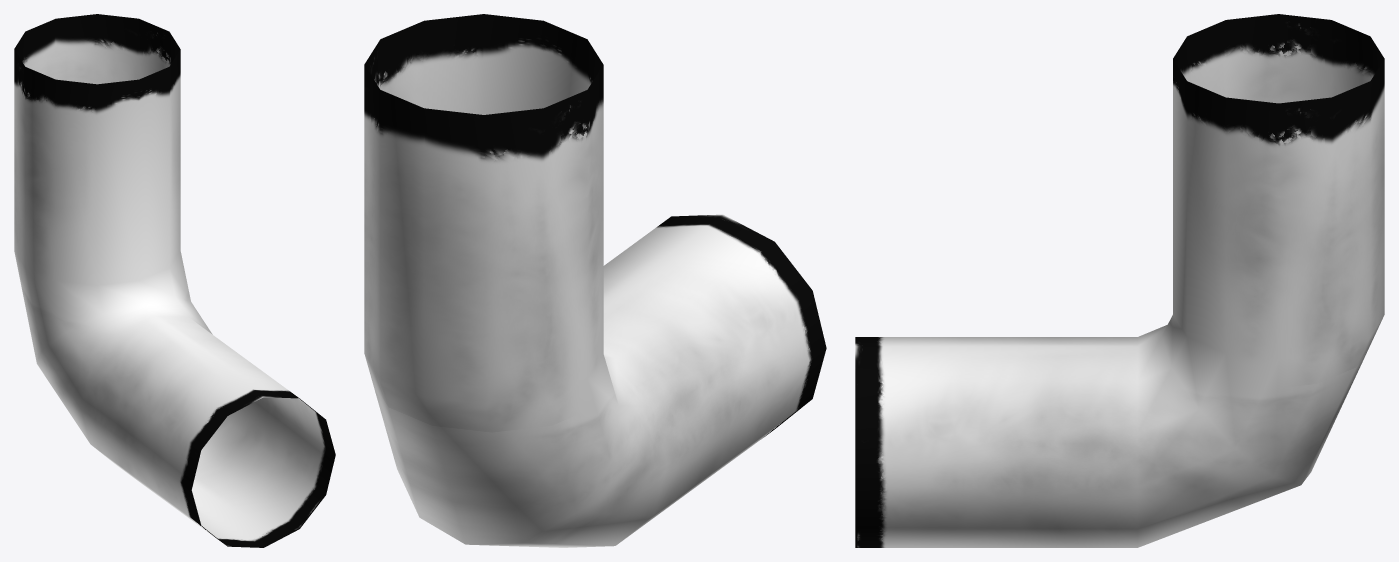
Rendered from Pipe-J.fbx.
3 views of the same model, side by side, from view 1: azimuth 30°, elevation 25°; view 2: azimuth 150°, elevation 25°; view 3: azimuth 270°, elevation 25° (orthographic). The views are drawn at different scales.
Parts seen in each view (by area): view 1: Pipe-J; view 2: Pipe-J; view 3: Pipe-J.
Boxes of the visible parts, x1,y1,x2,y2 form: Pipe-J: (14, 14, 335, 547); Pipe-J: (364, 14, 826, 547); Pipe-J: (855, 14, 1384, 547).
Bounding box in the file's own units: 50 × 125 × 125.
1 material, 1 textured.
